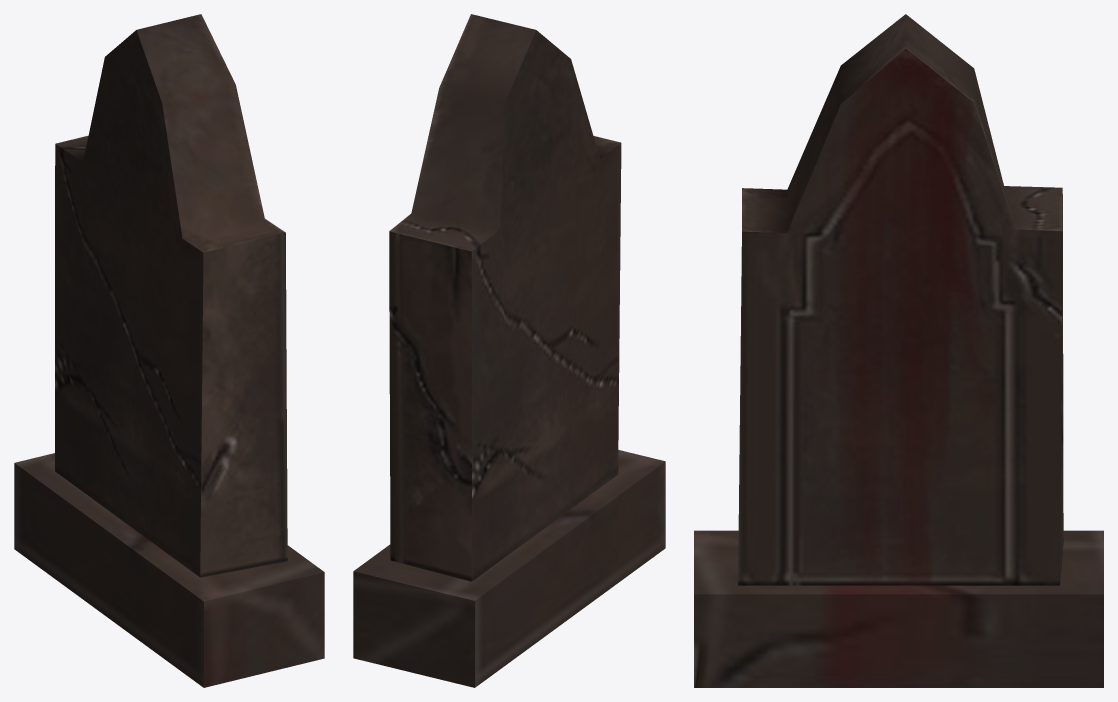
Rendered from fancy_tombstone_4_.fbx.
3 views of the same model, side by side, from view 1: azimuth 30°, elevation 25°; view 2: azimuth 150°, elevation 25°; view 3: azimuth 270°, elevation 25° (orthographic). The views are drawn at different scales.
Visible parts, largest first — view 1: Fancy_Tombstone_4; view 2: Fancy_Tombstone_4; view 3: Fancy_Tombstone_4.
Part boxes in pixels (bbox=[...]): Fancy_Tombstone_4: bbox=[14, 14, 324, 687]; Fancy_Tombstone_4: bbox=[353, 14, 665, 687]; Fancy_Tombstone_4: bbox=[694, 14, 1103, 687].
Size of the model in its own units: 1.32 by 6.04 by 3.58.
